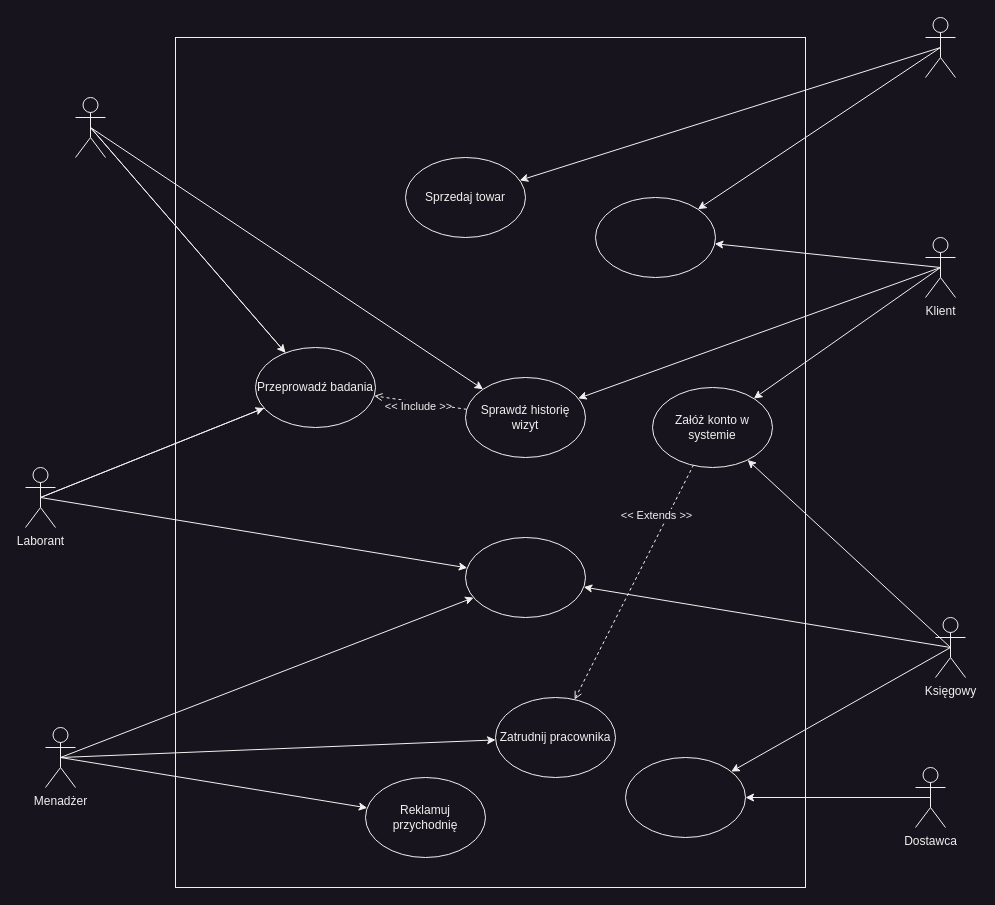
Image size: 995x905. Some labels were removed from this diagram. Here are the shapes that lost their labels. From the top down, the centre of each, then its label:
(x=940, y=47): Recepcjonista
(x=90, y=127): Lekarz
(x=655, y=237): Umów wizytę
(x=525, y=577): Stwórz raport
(x=685, y=797): Zamów towar
